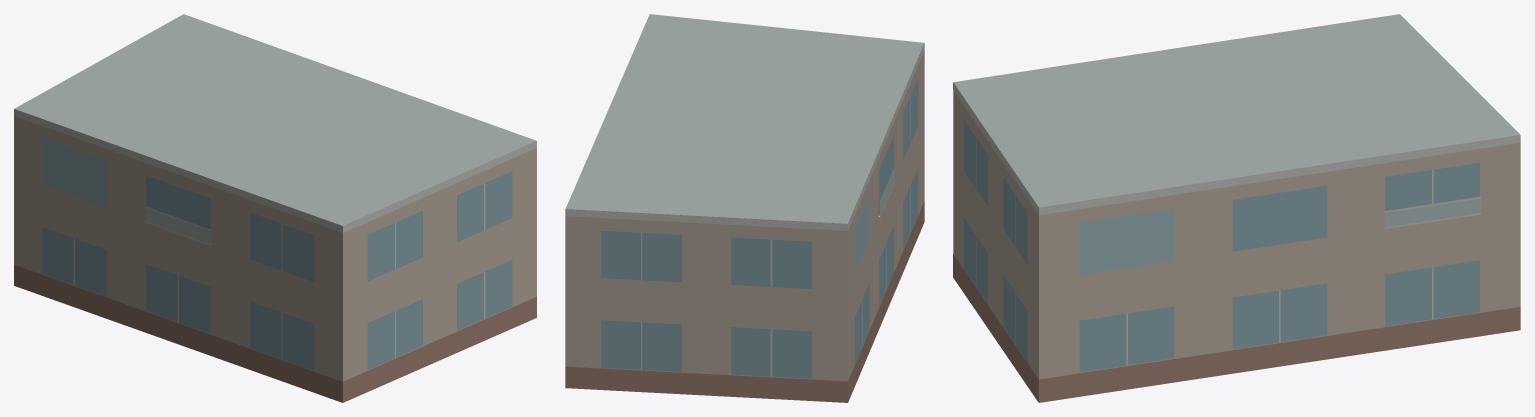
Rendered from survey-upis-32940367.glb.
The picture shows the model from 3 angles, left to right: view 1: azimuth 30°, elevation 25°; view 2: azimuth 150°, elevation 25°; view 3: azimuth 270°, elevation 25°; orthographic projection. The views are drawn at different scales.
Parts seen in each view (by area): view 1: survey-upis-32940367.tmp; view 2: survey-upis-32940367.tmp; view 3: survey-upis-32940367.tmp.
Part boxes in pixels (x1,y1,x2,y2): survey-upis-32940367.tmp: [14, 14, 536, 402]; survey-upis-32940367.tmp: [565, 14, 924, 402]; survey-upis-32940367.tmp: [953, 14, 1520, 402].
Bounding box in the file's own units: 12.97 × 6.1 × 16.07.
